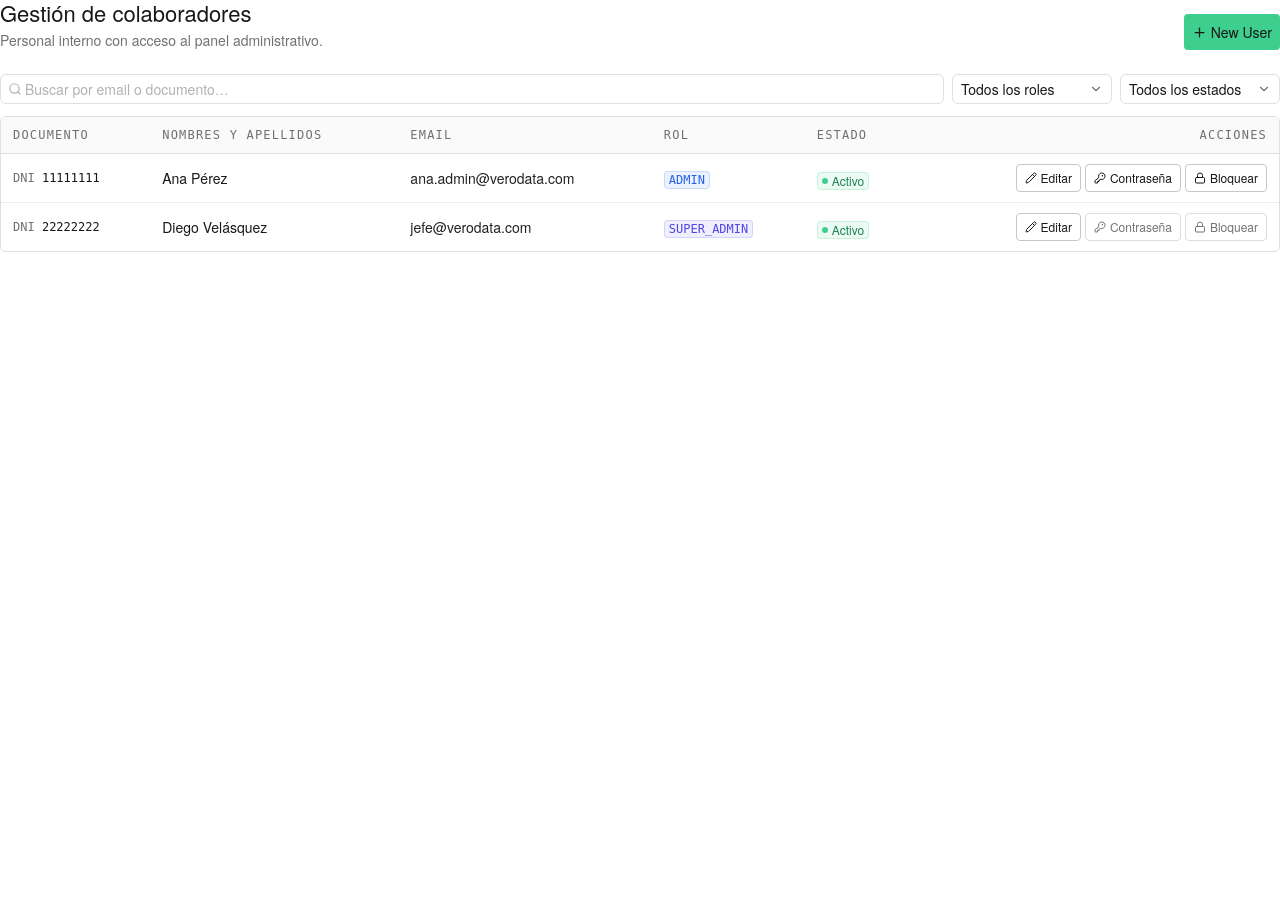
Test case: UsersPage — cambio de contraseña › no envía nada si las contraseñas no coinciden
Check: the text "ana.admin@verodata.com" is shown, box [398, 154, 652, 203]
Click the button "Contraseña" in the row of "11111111": [1133, 178] box [1085, 164, 1181, 192]
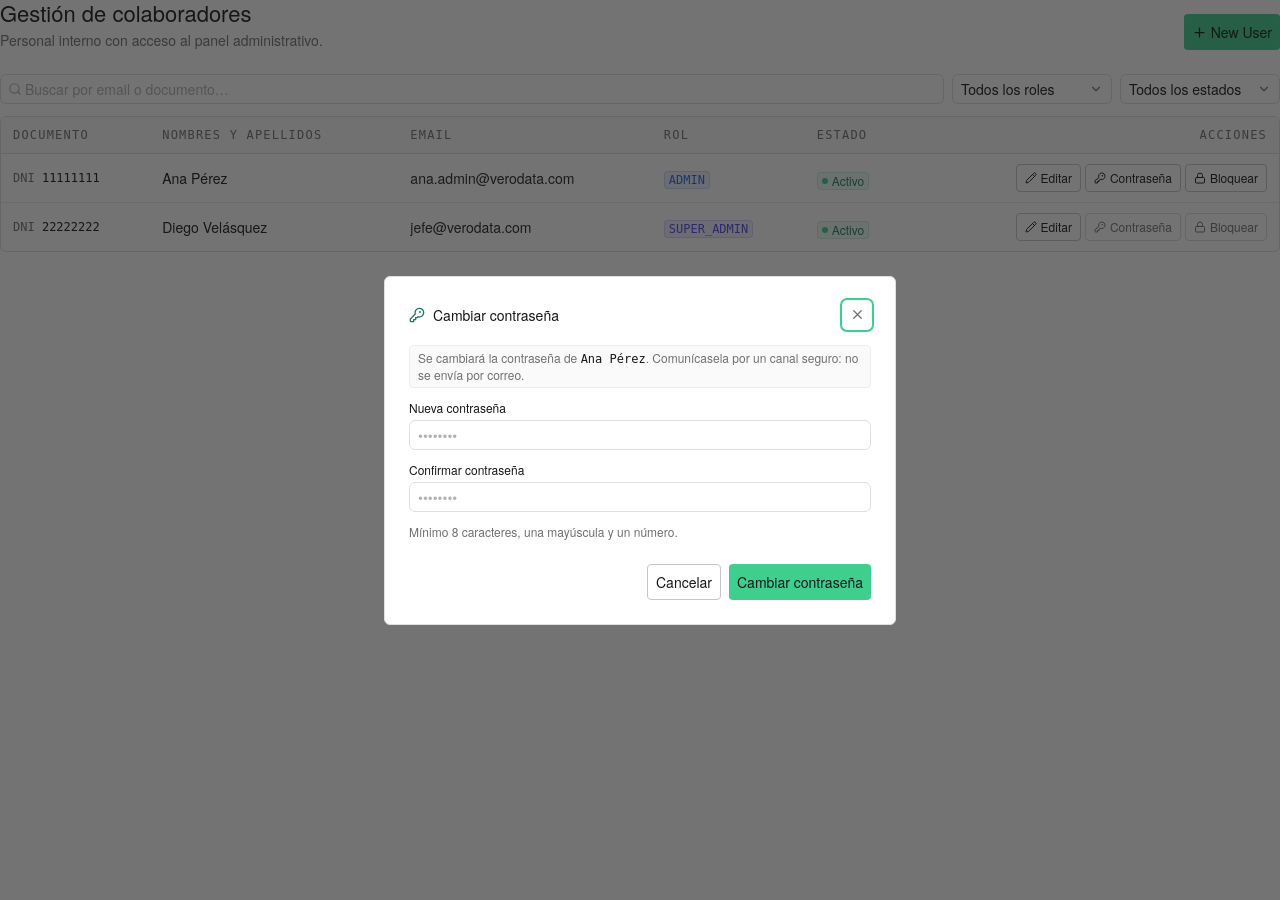
In the password field labelled "Nueva contraseña": [640, 434] box [409, 420, 871, 450], type "NuevaClave1"
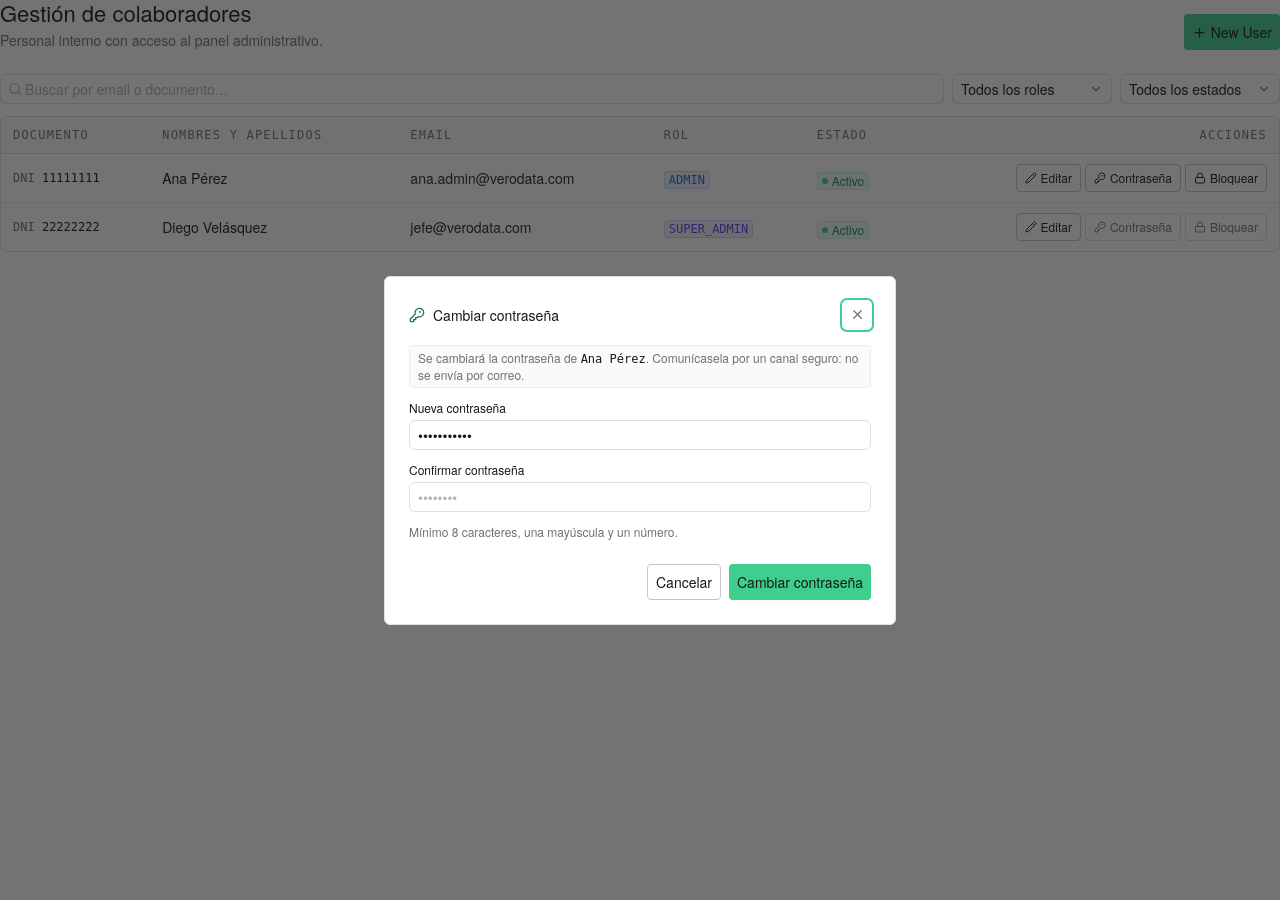
In the password field labelled "Confirmar contraseña": [640, 496] box [409, 482, 871, 512], type "OtraClave2"
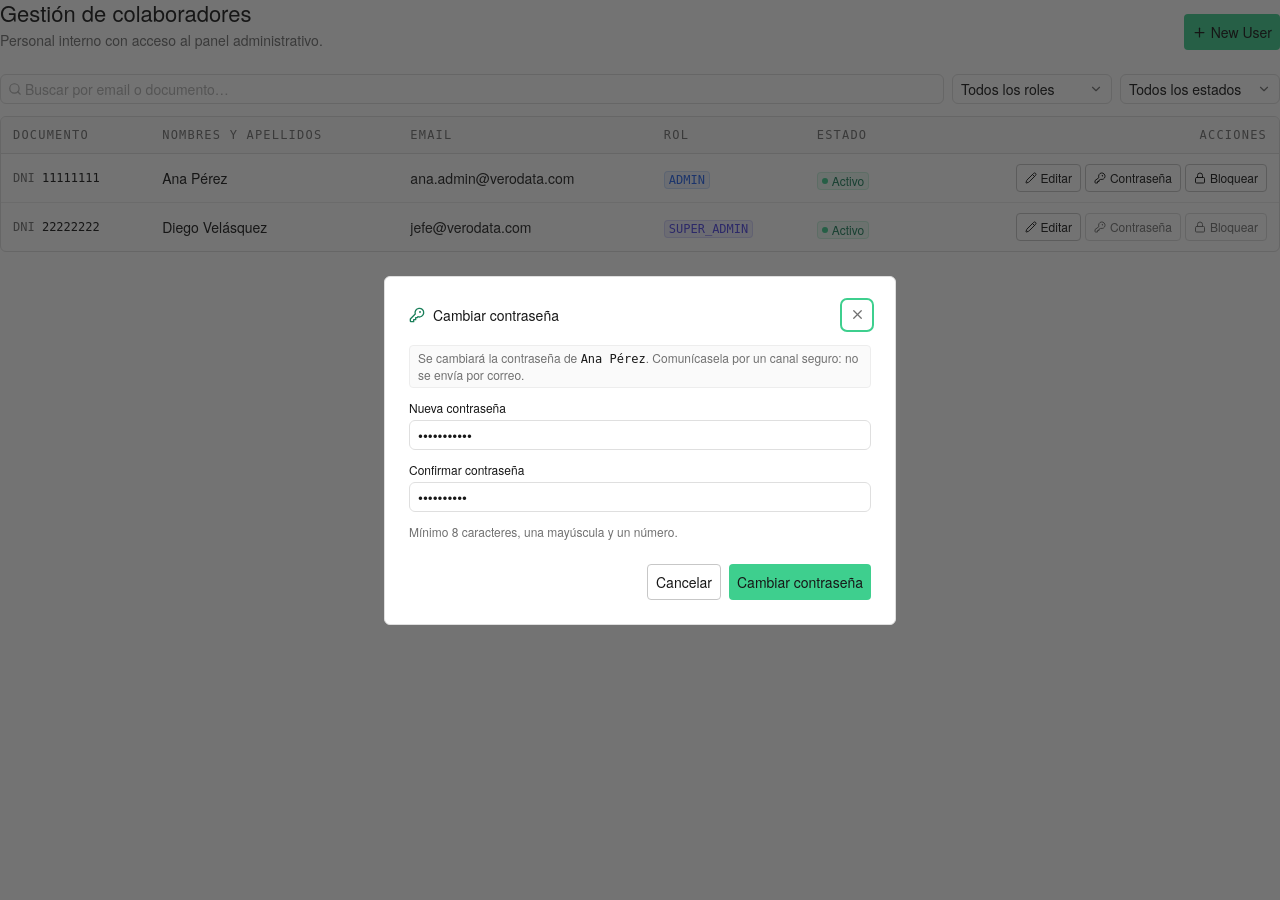
Click the button "Cambiar contraseña": [800, 582] box [729, 564, 871, 600]
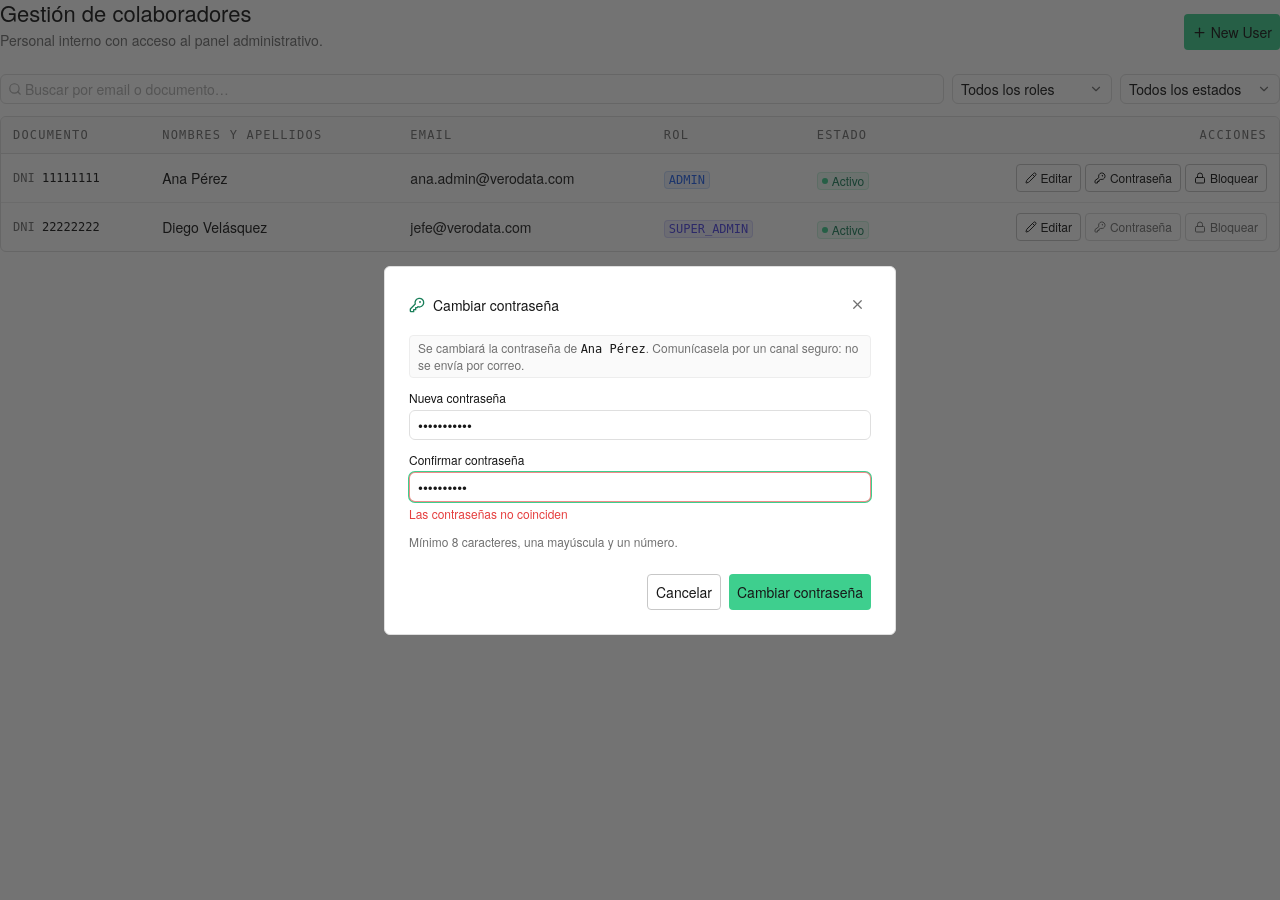
Check: the text "Las contraseñas no coinciden" is shown, box [409, 504, 568, 522]
